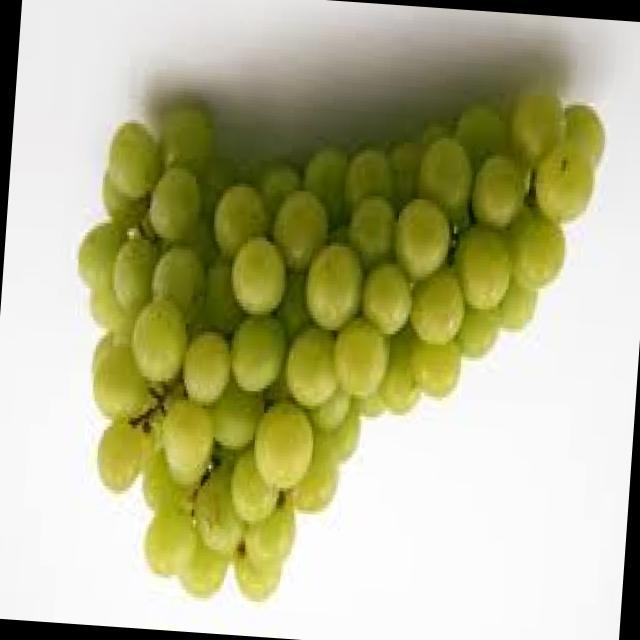Grapes: (33, 6, 622, 640)
